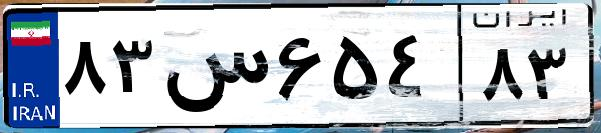3: (525, 38, 570, 115), (110, 28, 158, 98)
4: (385, 28, 445, 110)
5: (330, 28, 385, 110)
6: (270, 28, 330, 110)
8: (57, 26, 110, 100), (475, 38, 525, 113)
س: (158, 20, 270, 120)
